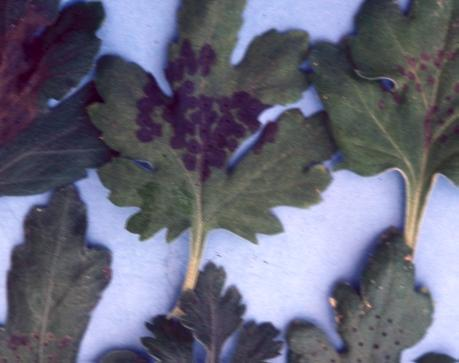Tomato leaf bacterial spot: (300, 0, 459, 243), (0, 170, 166, 363), (284, 206, 459, 363), (145, 268, 286, 363)
